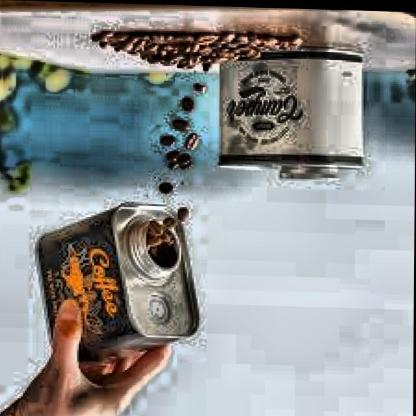Can: (32, 194, 202, 368), (212, 36, 368, 186)
